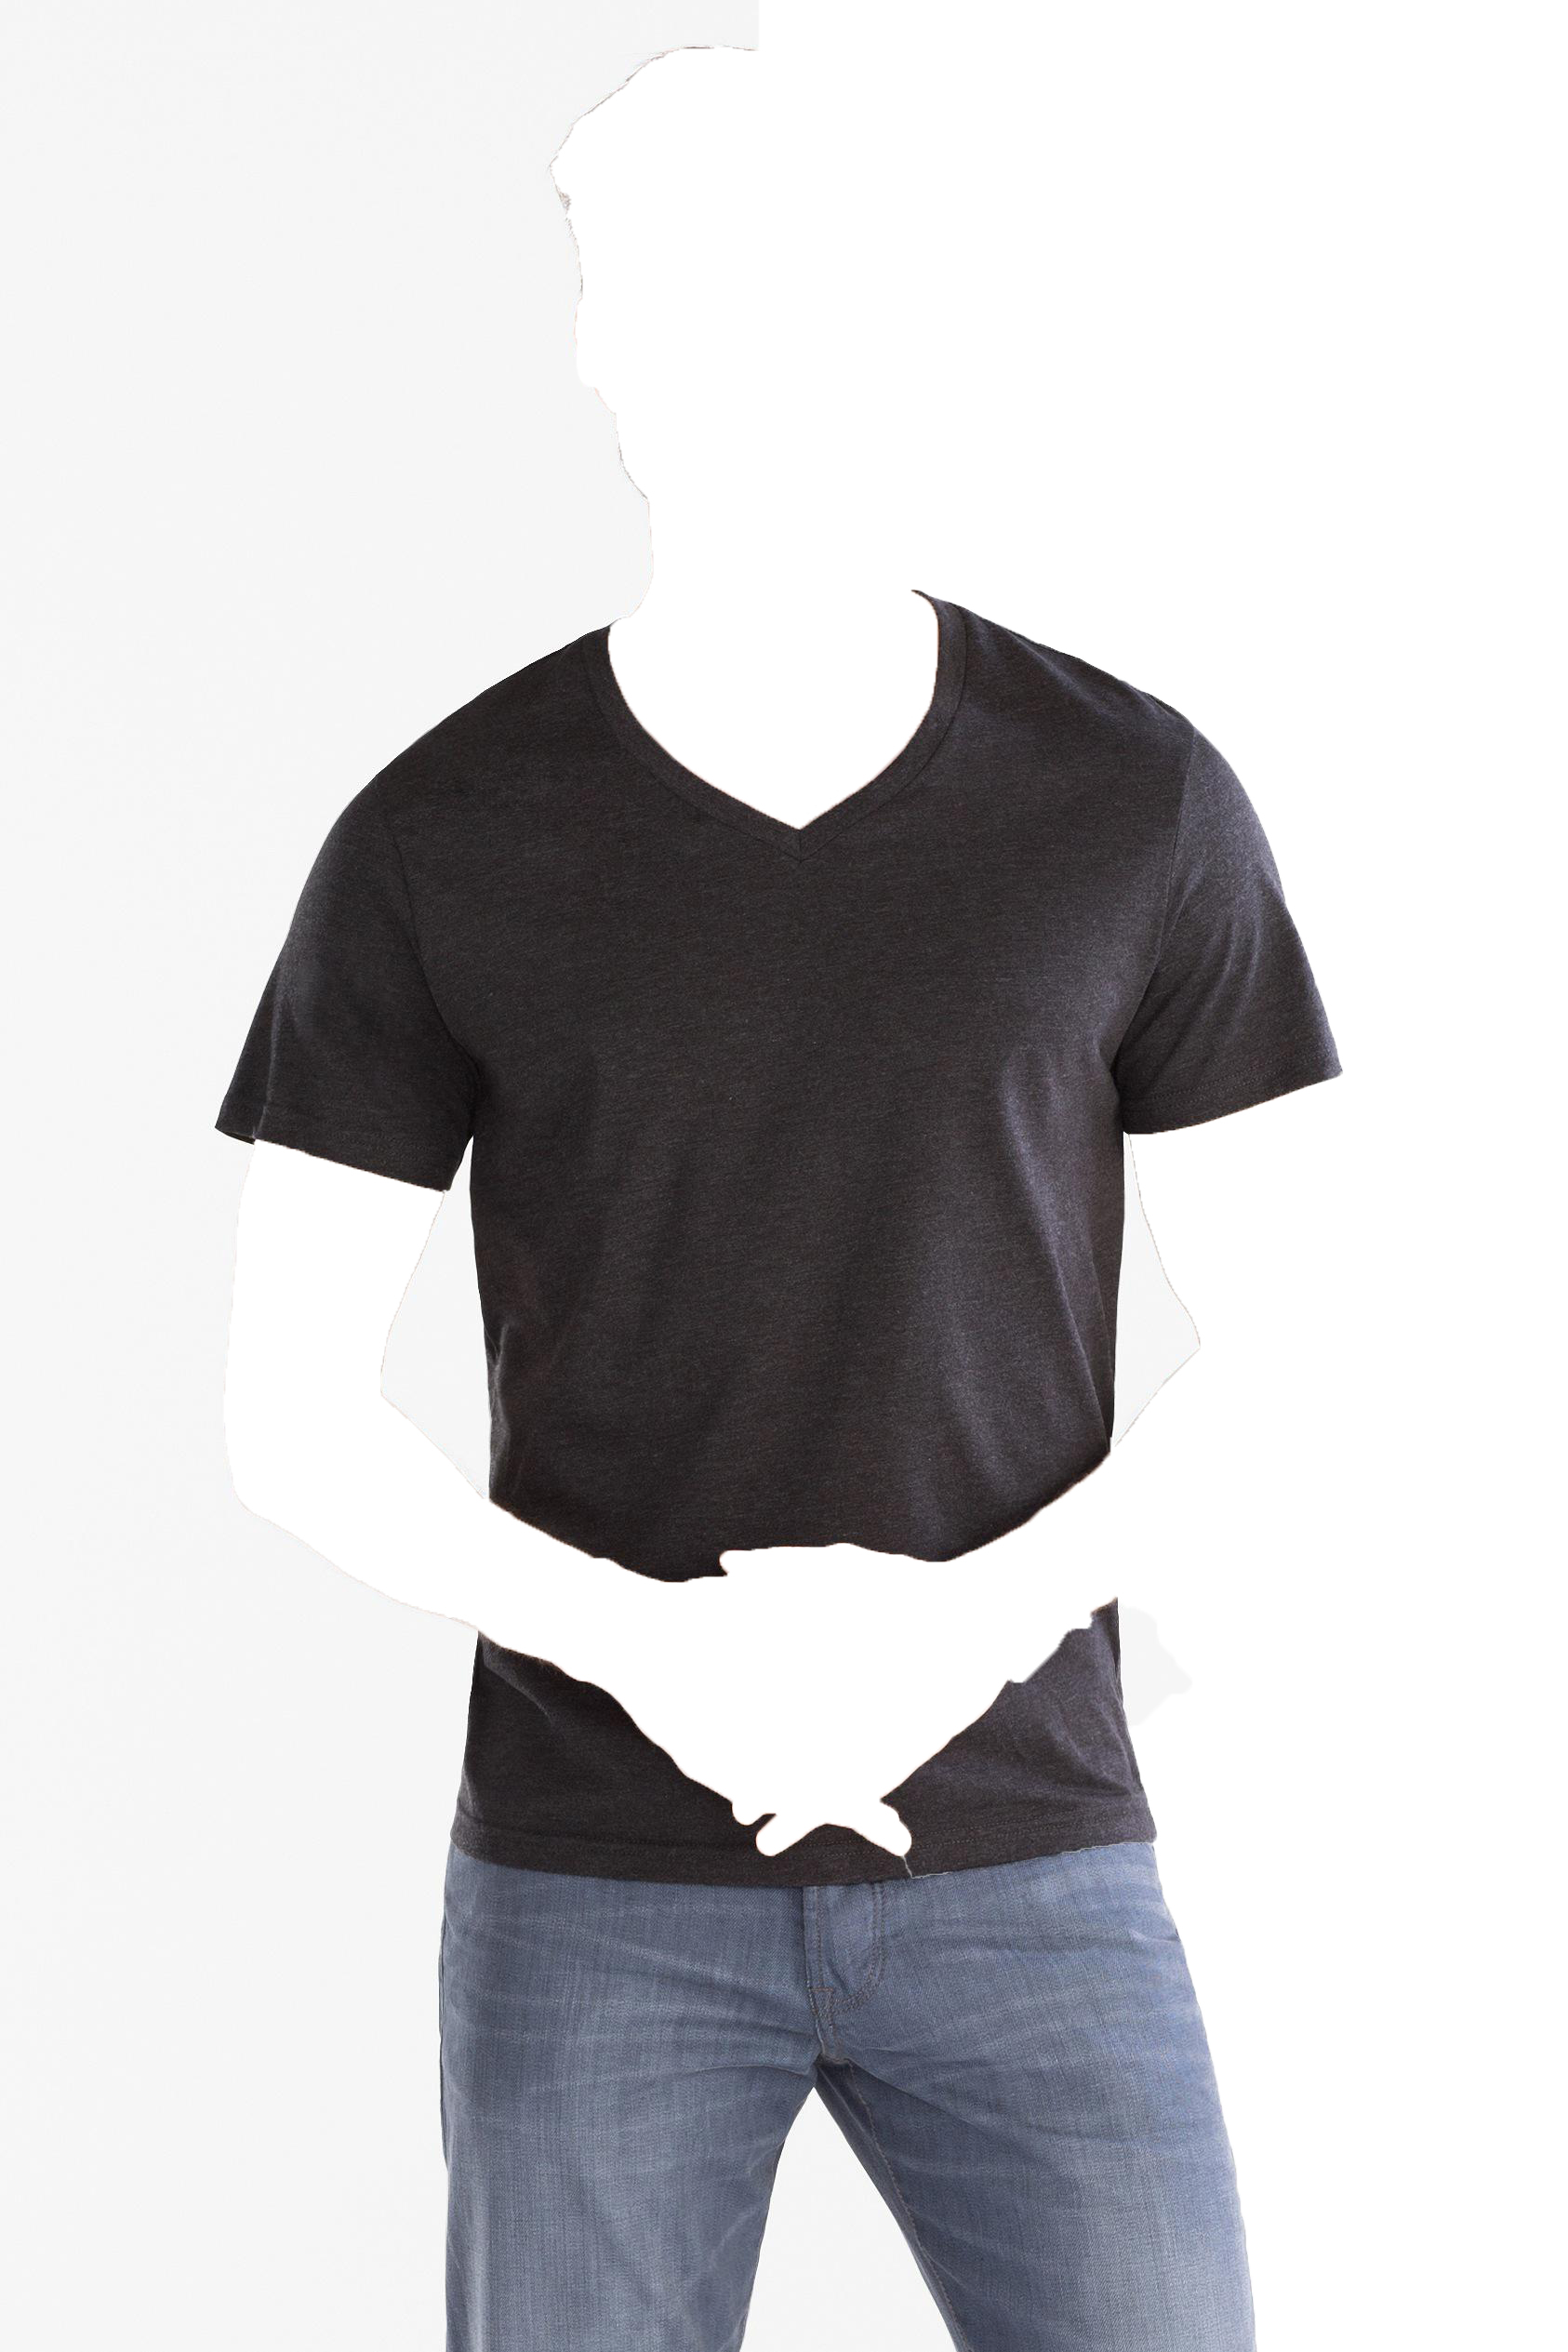teeshirt: (220, 597, 1382, 1916)
